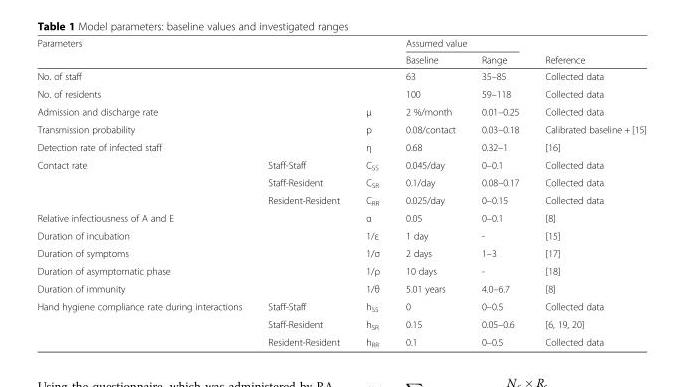table: (36, 37, 645, 348)
table column: (36, 37, 254, 348), (531, 37, 645, 348), (254, 37, 352, 348), (392, 37, 467, 348), (467, 37, 531, 348), (352, 37, 392, 348)
table column header: (36, 37, 645, 67)
table row: (36, 84, 645, 102), (36, 102, 645, 120), (36, 137, 645, 155), (36, 155, 645, 173), (36, 173, 645, 191), (36, 208, 645, 226), (36, 243, 645, 261), (36, 261, 645, 279), (36, 279, 645, 297), (36, 297, 645, 315), (36, 315, 645, 333), (36, 67, 645, 84), (36, 120, 645, 137), (36, 191, 645, 208), (36, 226, 645, 243), (36, 51, 645, 67), (36, 333, 645, 348), (36, 37, 645, 51)
table spanning cell: (36, 155, 254, 208), (36, 297, 254, 348), (36, 37, 392, 67), (36, 84, 392, 102), (36, 67, 392, 84), (36, 102, 352, 120), (36, 137, 352, 155), (36, 208, 352, 226), (36, 243, 352, 261), (36, 261, 352, 279), (36, 279, 352, 297), (36, 120, 352, 137), (36, 226, 352, 243), (531, 37, 645, 67), (392, 37, 531, 51)
